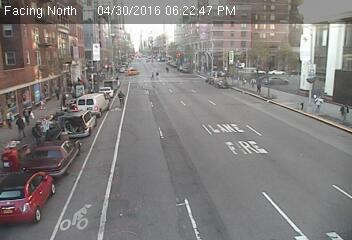neg: (172, 111, 193, 139), (9, 165, 29, 191), (76, 87, 95, 112), (281, 37, 300, 61), (113, 88, 131, 112), (242, 27, 258, 49), (89, 127, 104, 147), (202, 22, 217, 42), (168, 32, 180, 48), (320, 57, 332, 73)
pos: (309, 92, 328, 117), (11, 115, 29, 139), (332, 102, 348, 122), (1, 108, 14, 126), (51, 81, 64, 99), (254, 80, 266, 95), (154, 69, 162, 80), (148, 69, 156, 80), (164, 64, 171, 74)
